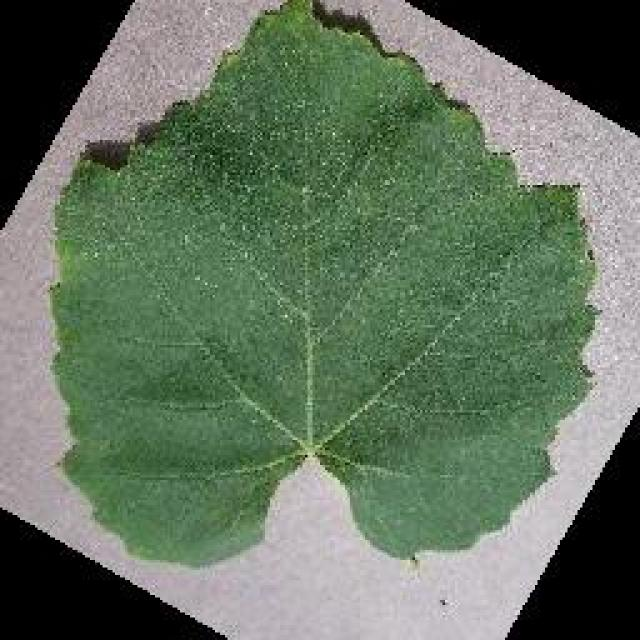Grape___healthy: (52, 0, 590, 565)
